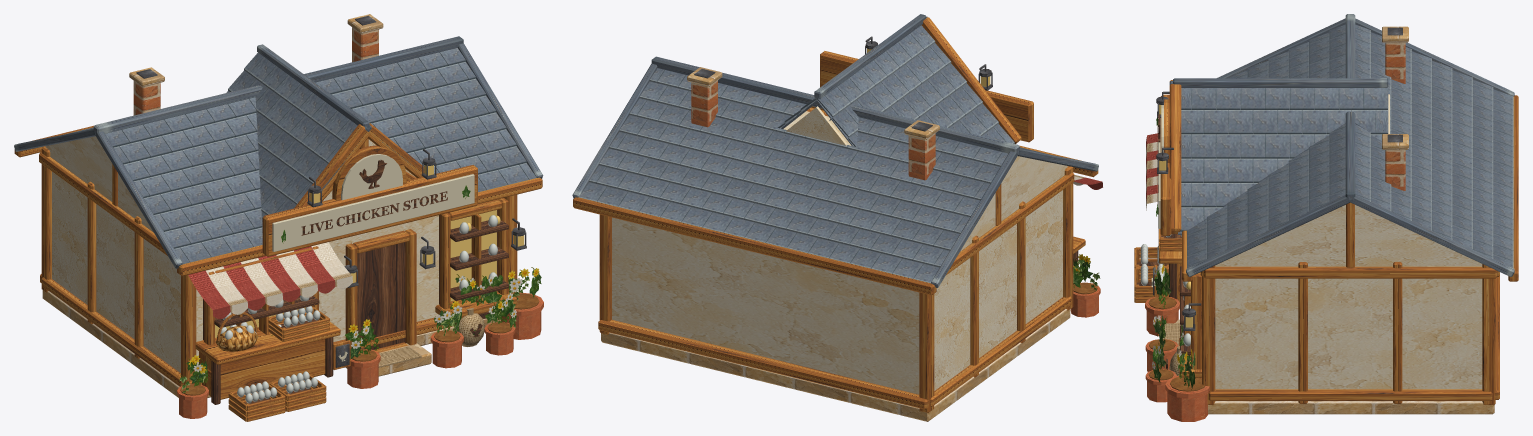
Rendered from ChickenStore_Cozy_LOD0.fbx.
3 renders of one model, left to right at view 1: azimuth 30°, elevation 25°; view 2: azimuth 150°, elevation 25°; view 3: azimuth 270°, elevation 25°, orthographic.
Parts seen in each view (by area): view 1: ChickenStore_Cozy_LOD0; view 2: ChickenStore_Cozy_LOD0; view 3: ChickenStore_Cozy_LOD0.
Boxes of the visible parts, x1=… form: ChickenStore_Cozy_LOD0: x1=14, y1=14, x2=543, y2=421; ChickenStore_Cozy_LOD0: x1=572, y1=14, x2=1102, y2=421; ChickenStore_Cozy_LOD0: x1=1134, y1=14, x2=1518, y2=421.
Bounding box in the file's own units: 9.11 × 5.95 × 8.13.
